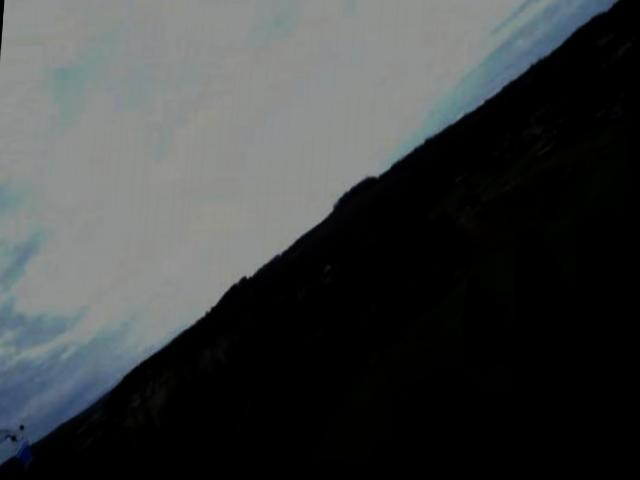flying wing: (0, 417, 46, 470)
